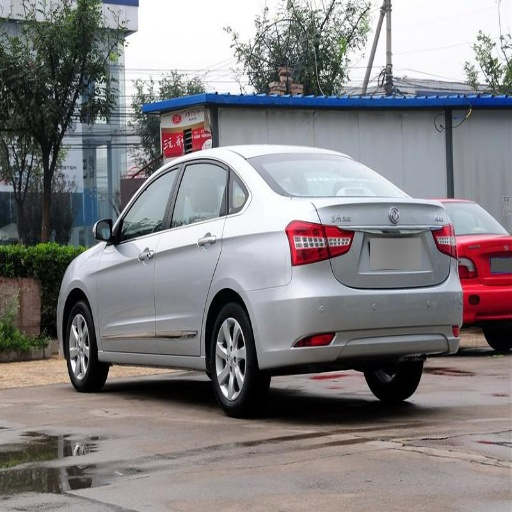back_bumper: (251, 257, 509, 371)
back_glass: (250, 152, 390, 196)
back_left_door: (156, 159, 231, 352)
tailgate: (308, 196, 454, 288)
